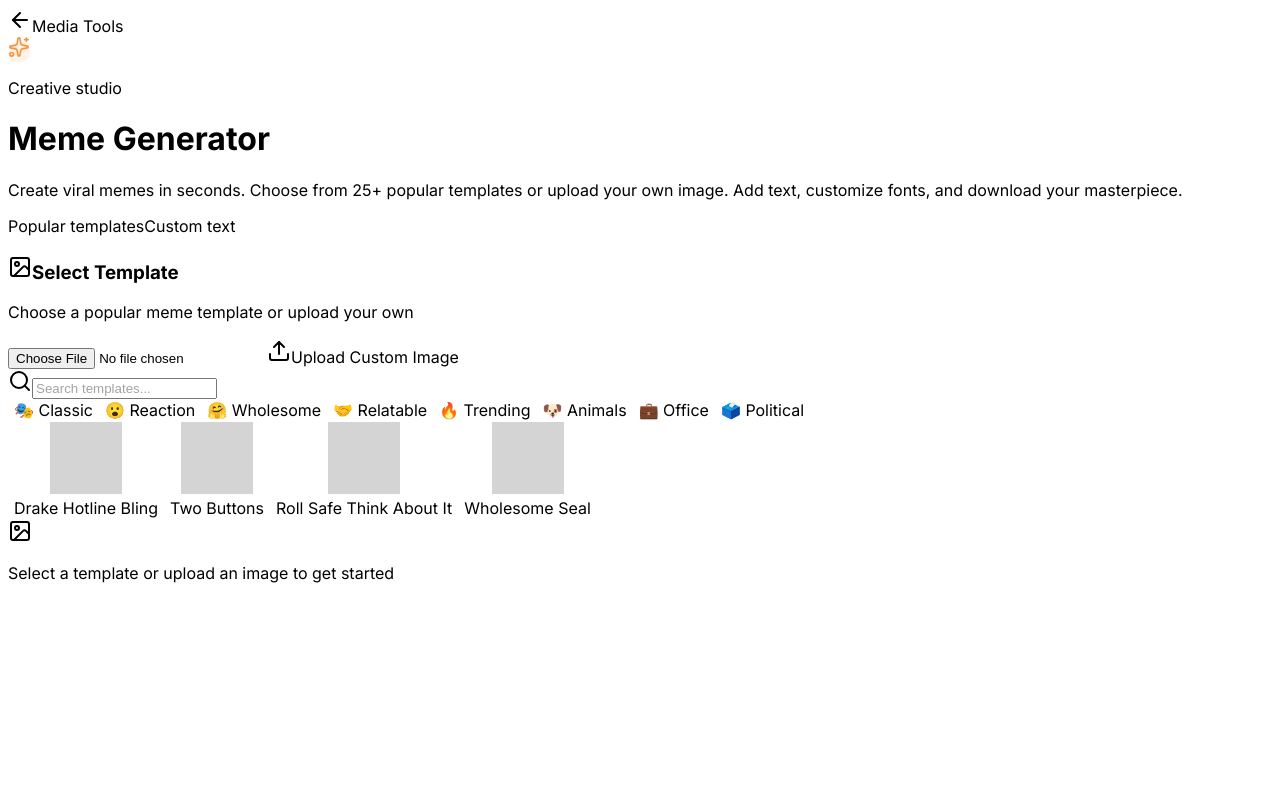
MemeGeneratorPage › Template Selection › shows text editor when template is selected
The image size is (1280, 800).
Step 1. Click the button "Drake Hotline Bling" → click(86, 470), box top-left (8, 421), bottom-right (164, 519)
Wait 50 ms
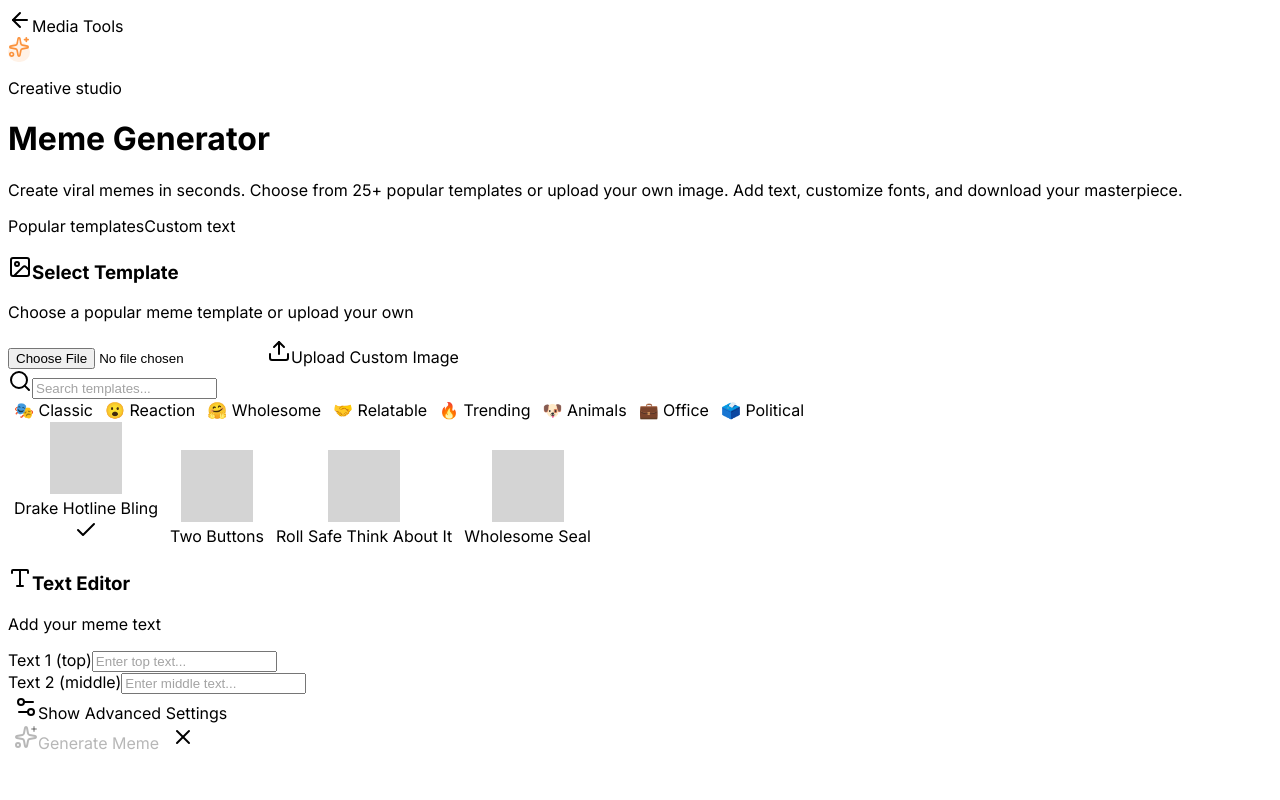
Now the heading "Text Editor" is shown, box top-left (8, 566), bottom-right (130, 595)
